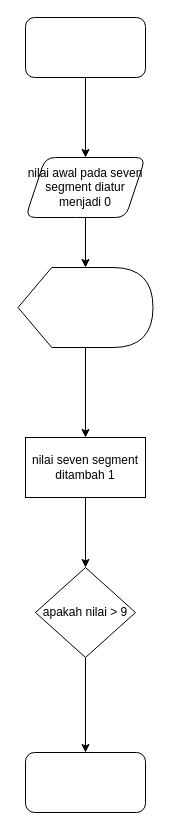
Image size: 170x830. Some labels were removed from this diagram. The centre of each missing label's shape, as x and y in pixels:
"angka pada seven segment ditampilkan sesuai dengan nilai yang ada." belongs at pixel 85 307.
"START" belongs at pixel 85 47.
